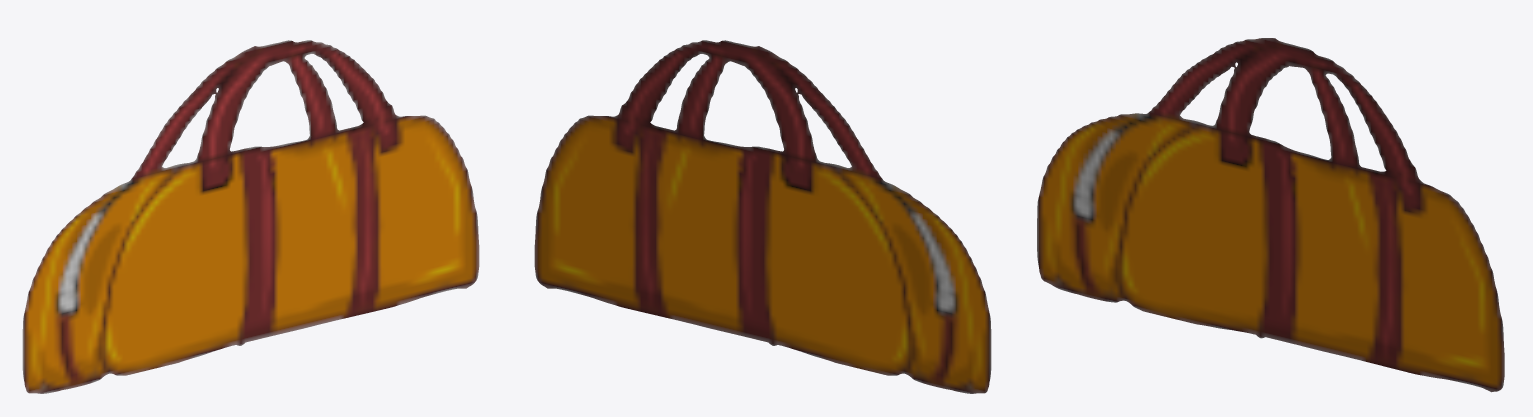
File: giftgoods034.fbx
The picture shows the model from 3 angles, left to right: view 1: azimuth 30°, elevation 25°; view 2: azimuth 150°, elevation 25°; view 3: azimuth 330°, elevation 25°; orthographic projection. The views are drawn at different scales.
Parts seen in each view (by area): view 1: giftgoods034; view 2: giftgoods034; view 3: giftgoods034.
Part boxes in pixels (box(x1,y1,x2,y2)): giftgoods034: box(22, 40, 479, 393); giftgoods034: box(534, 40, 991, 393); giftgoods034: box(1037, 38, 1504, 392).
Size of the model in its own units: 0.7652 by 0.4743 by 0.
